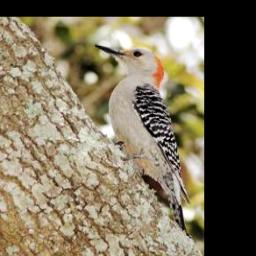Woodpecker: (90, 34, 198, 242)
